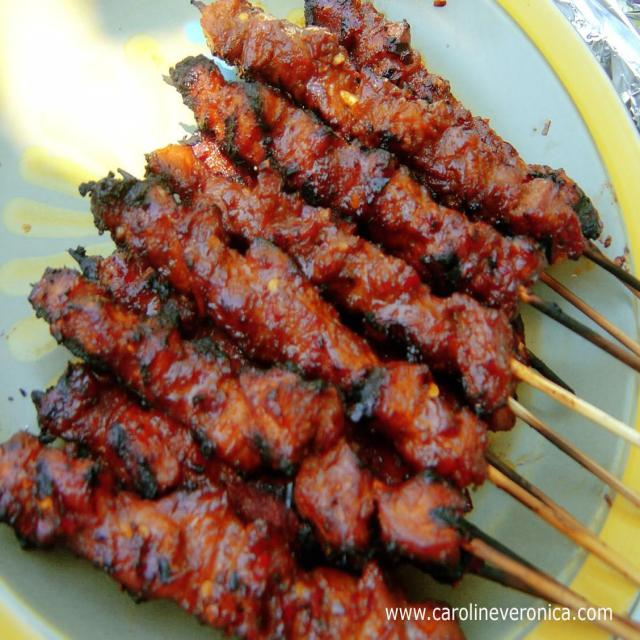Sate: (71, 35, 628, 627)
